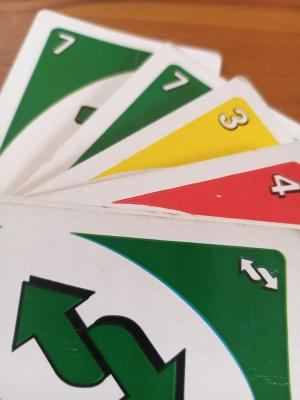green: (5, 219, 270, 400)
num_3: (212, 103, 251, 140)
num_4: (266, 172, 299, 201)
num_7: (46, 28, 82, 62), (160, 68, 191, 98)
reverse: (235, 251, 283, 295)
